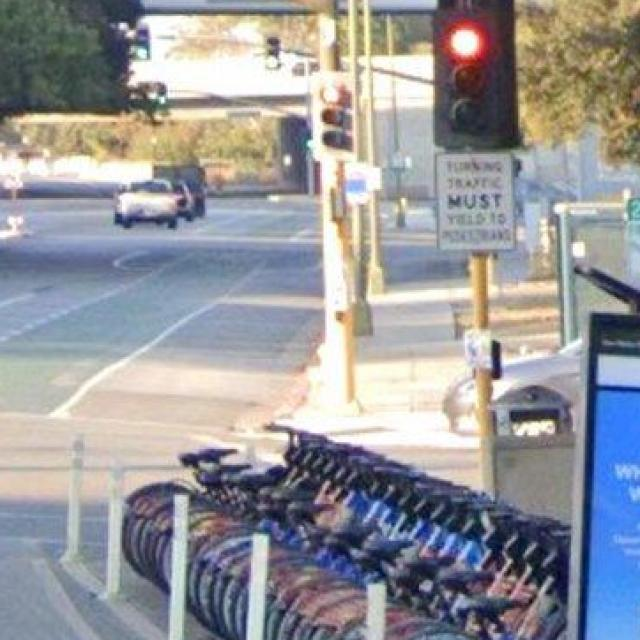bicycle: (127, 431, 571, 640)
